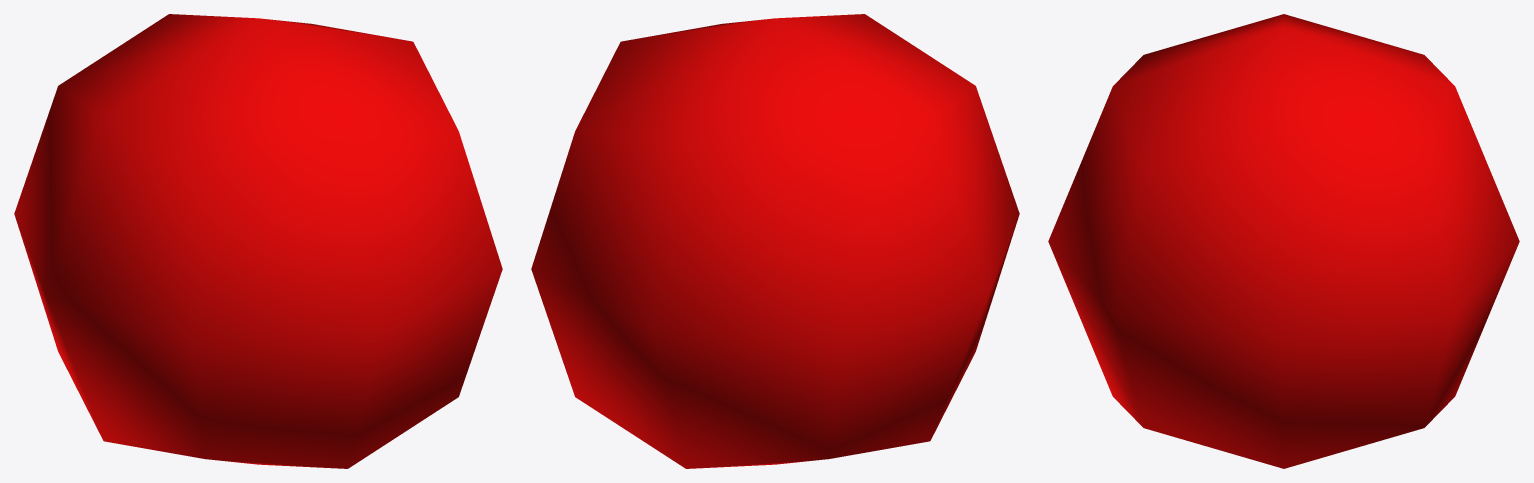
The model's file is bullet.obj.
3 views of the same model, side by side, from view 1: azimuth 30°, elevation 25°; view 2: azimuth 150°, elevation 25°; view 3: azimuth 270°, elevation 25° (orthographic). The views are drawn at different scales.
Parts seen in each view (by area): view 1: Cube; view 2: Cube; view 3: Cube.
Boxes of the visible parts, <box> form: Cube: <box>14,14,502,468</box>; Cube: <box>531,14,1019,468</box>; Cube: <box>1048,14,1519,468</box>.
Size of the model in its own units: 1.68 by 1.68 by 1.68.
Materials: 1 (1 with a texture image).
